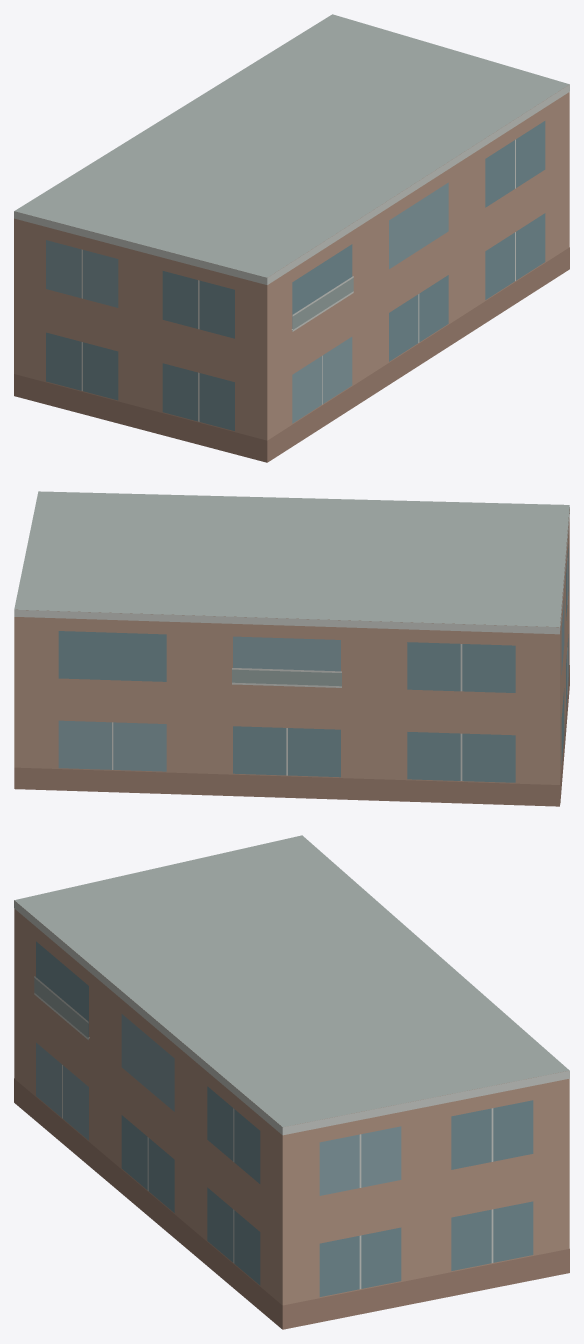
The model's file is survey-upis-32809487.glb.
3 views of the same model, one above another, from view 1: azimuth 30°, elevation 25°; view 2: azimuth 150°, elevation 25°; view 3: azimuth 270°, elevation 25° (orthographic). The views are drawn at different scales.
Visible parts, largest first — view 1: survey-upis-32809487.tmp; view 2: survey-upis-32809487.tmp; view 3: survey-upis-32809487.tmp.
Boxes of the visible parts, box(x1,y1,x2,y2) form: survey-upis-32809487.tmp: box(14, 14, 569, 462); survey-upis-32809487.tmp: box(14, 491, 569, 806); survey-upis-32809487.tmp: box(14, 835, 569, 1329).
Bounding box in the file's own units: 18.89 × 6.1 × 15.19.
